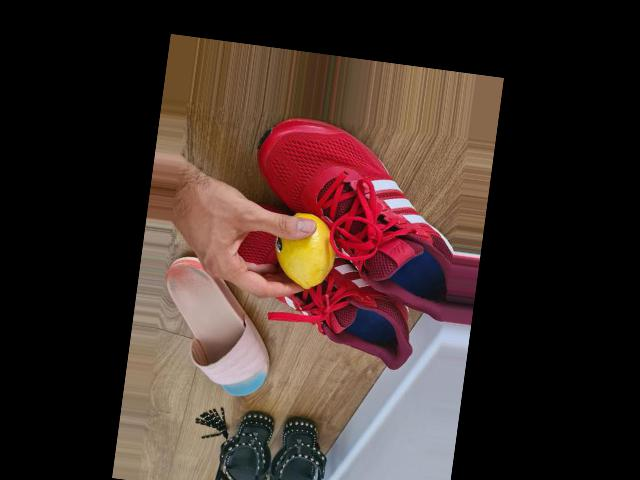lemon: (275, 208, 341, 292)
